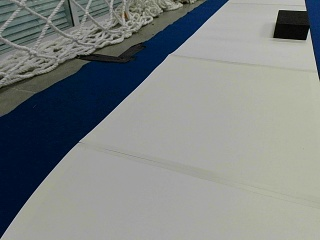block: (273, 11, 309, 40)
